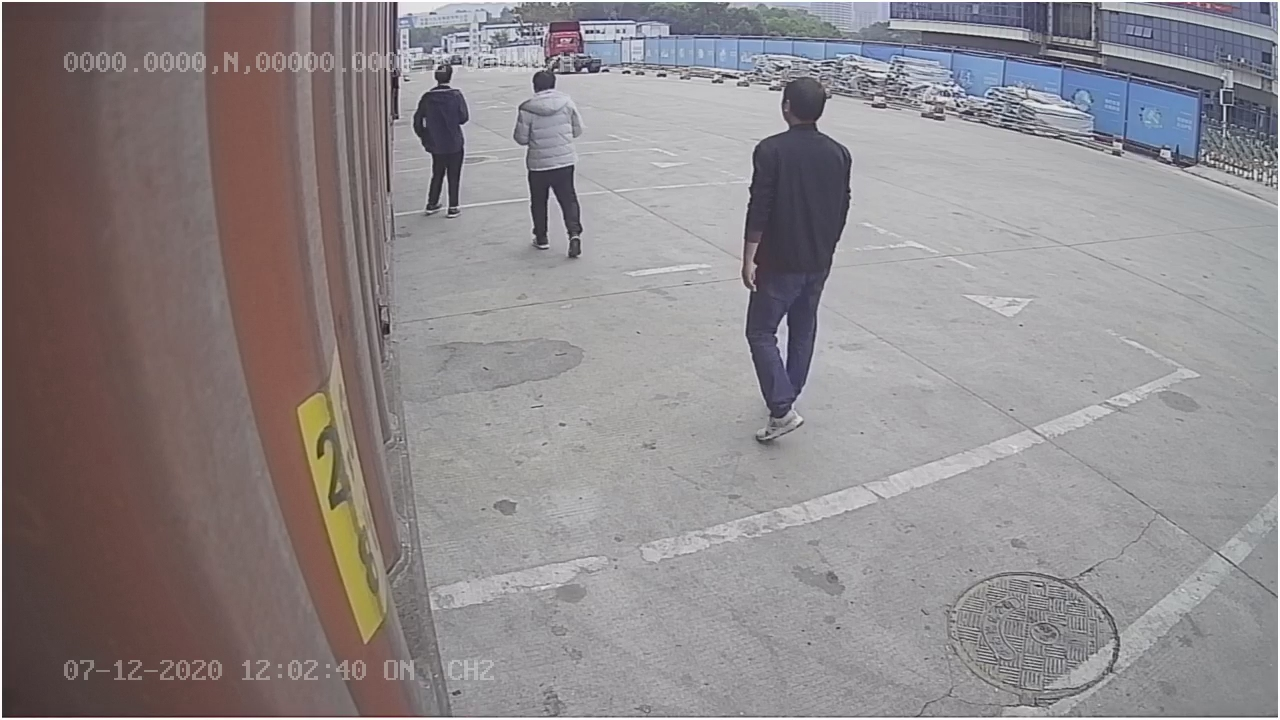person: (731, 75, 858, 444)
